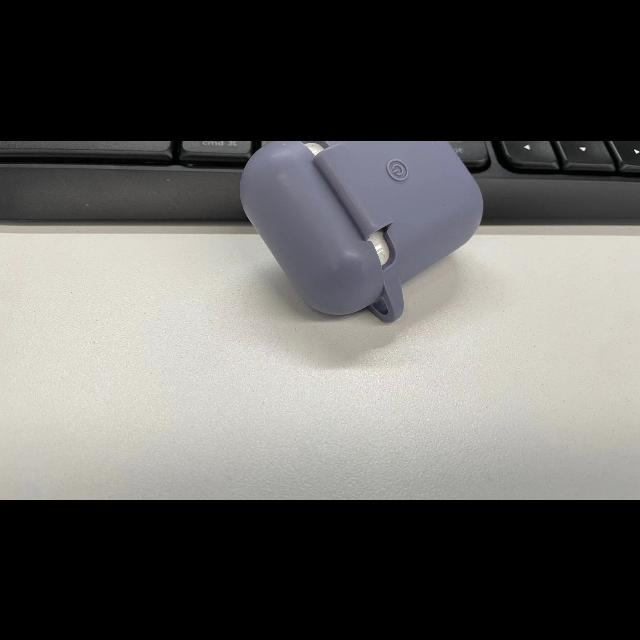airpods: (241, 140, 480, 325)
